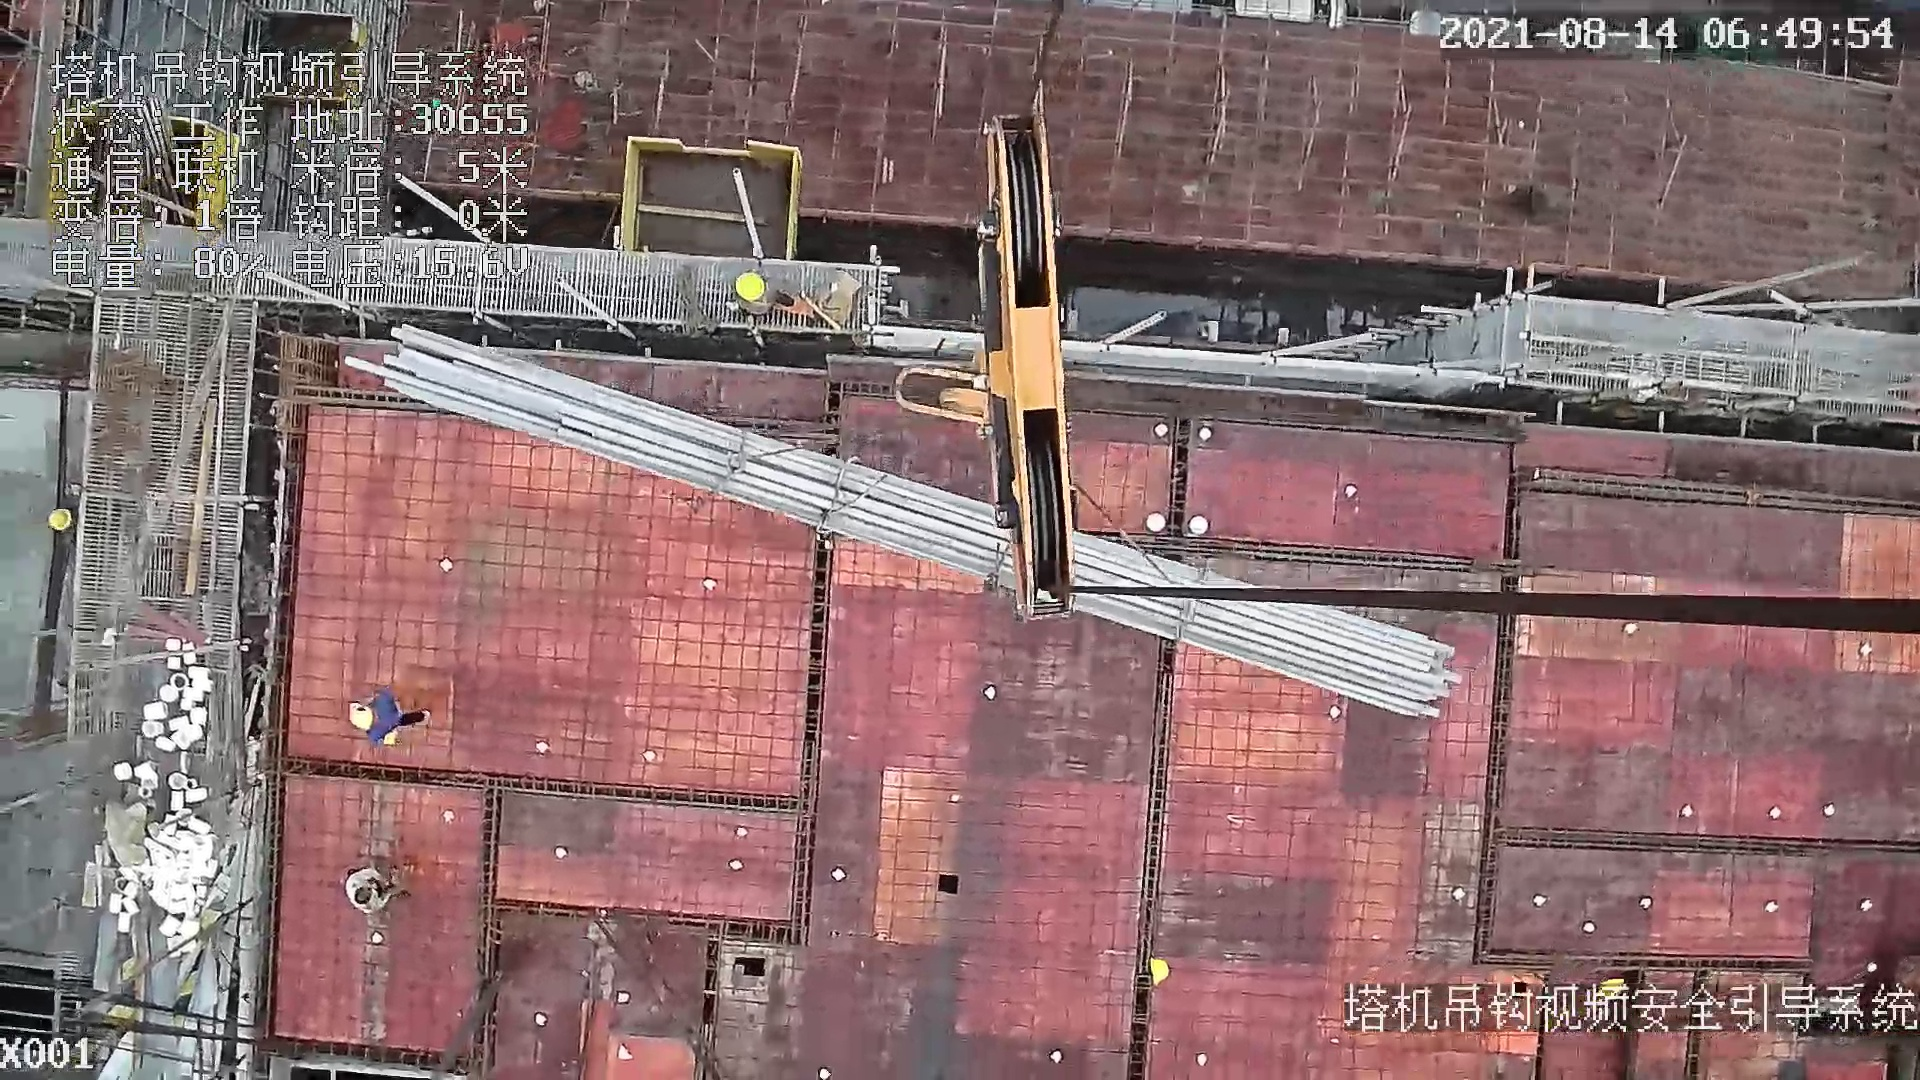helmet: (1140, 943, 1180, 1012), (729, 256, 769, 314)
hook: (885, 110, 1081, 623)
person: (346, 694, 438, 749), (332, 858, 408, 913), (725, 274, 796, 329)
